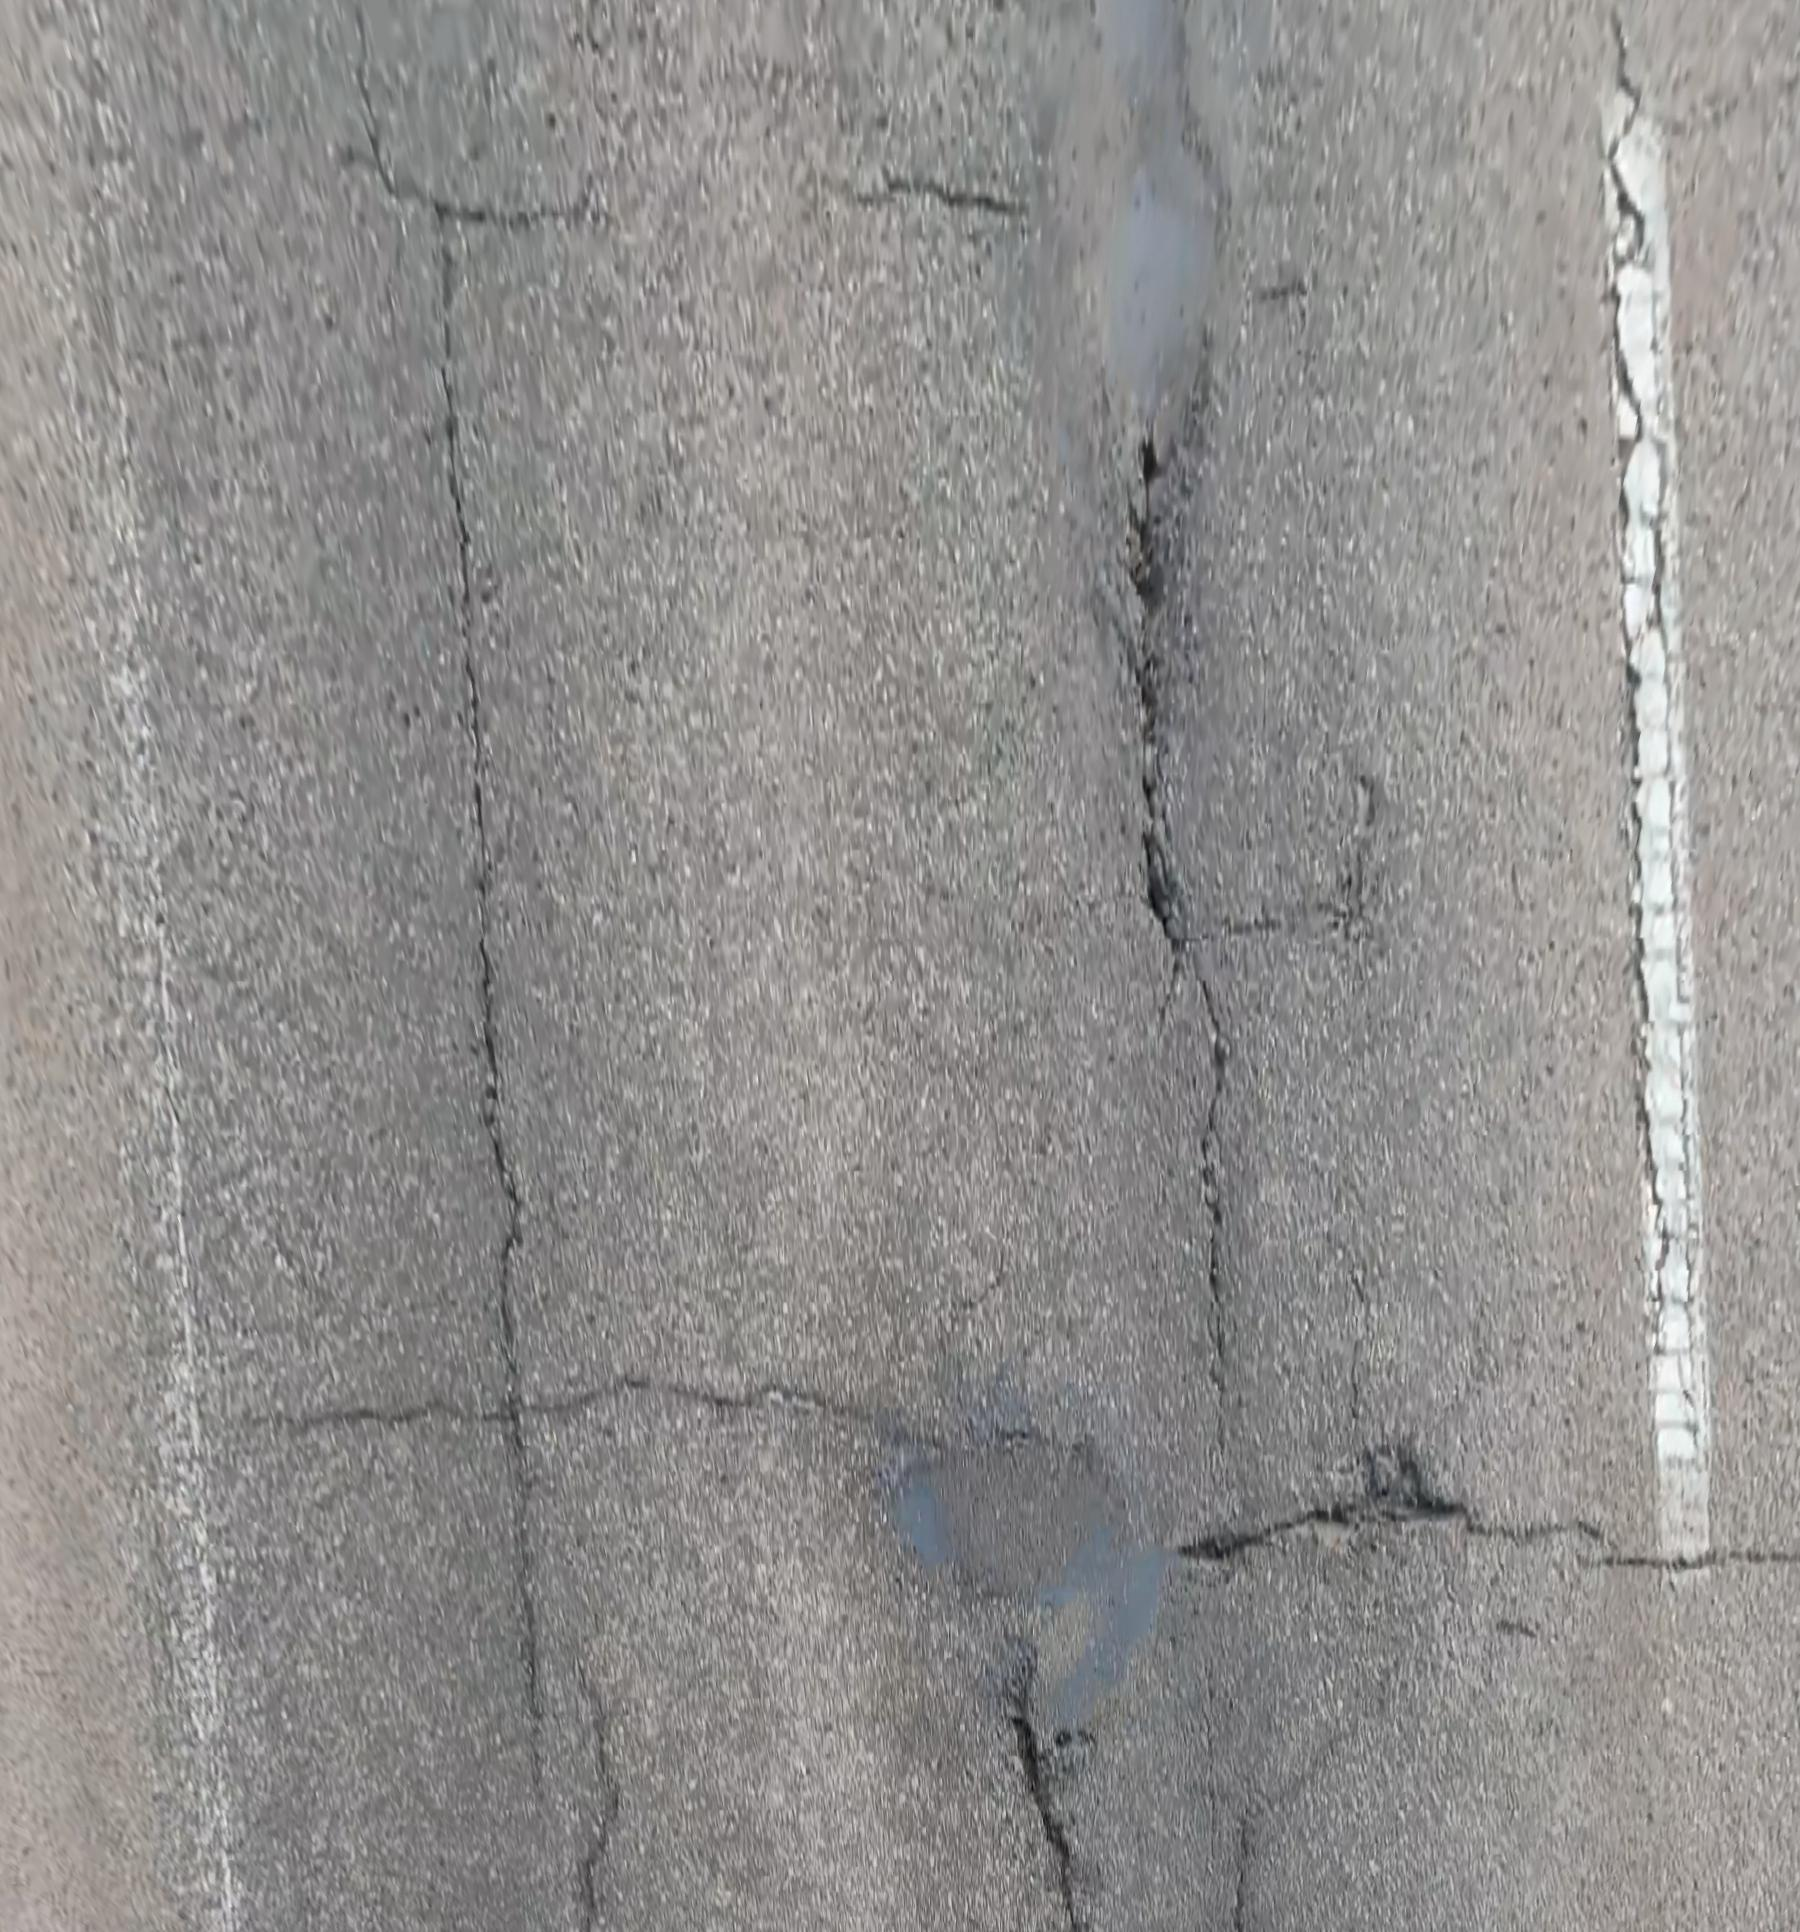pothole: (1179, 1441, 1473, 1563)
pothole_patch_good: (878, 1445, 1184, 1758), (1044, 0, 1232, 428)
